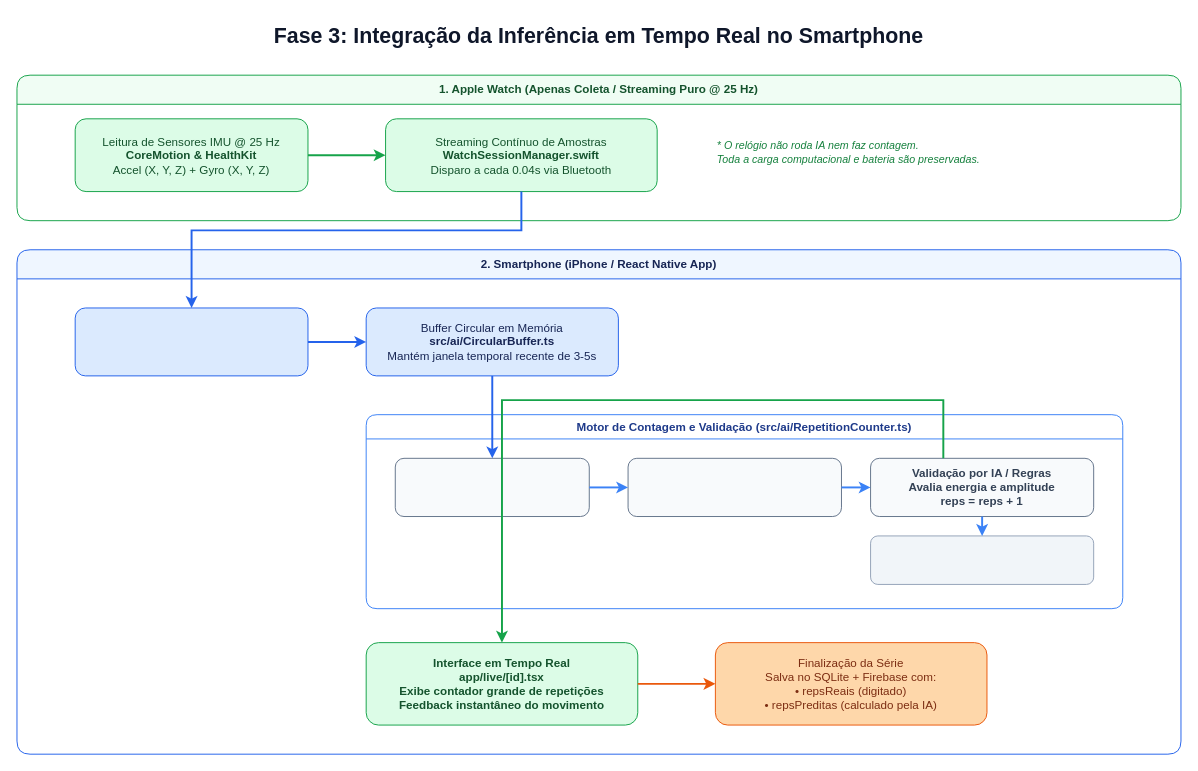
This 1198x771 diagram has some shape labels left out. Here are the shapes that lost their labels. From the top down, the centre of each, then its label:
At point 191,341: "Recepção de Amostras watchConnectivity.addListener Captura eventos em tempo real".
At point 491,487: "Filtragem e Magnitude Filtro Passa-Baixa + ||a||, ||w||".
At point 734,487: "Detector de Picos/Vales Inflexão local + t_min ≥ 1.2s".
At point 982,559: "Feedback Háptico e Auditivo no iPhone (Audio/Vibration API a cada rep válida)".
